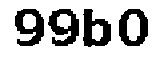0: (116, 6, 155, 51)
9: (47, 6, 80, 52), (9, 7, 46, 48)
b: (83, 6, 112, 54)
